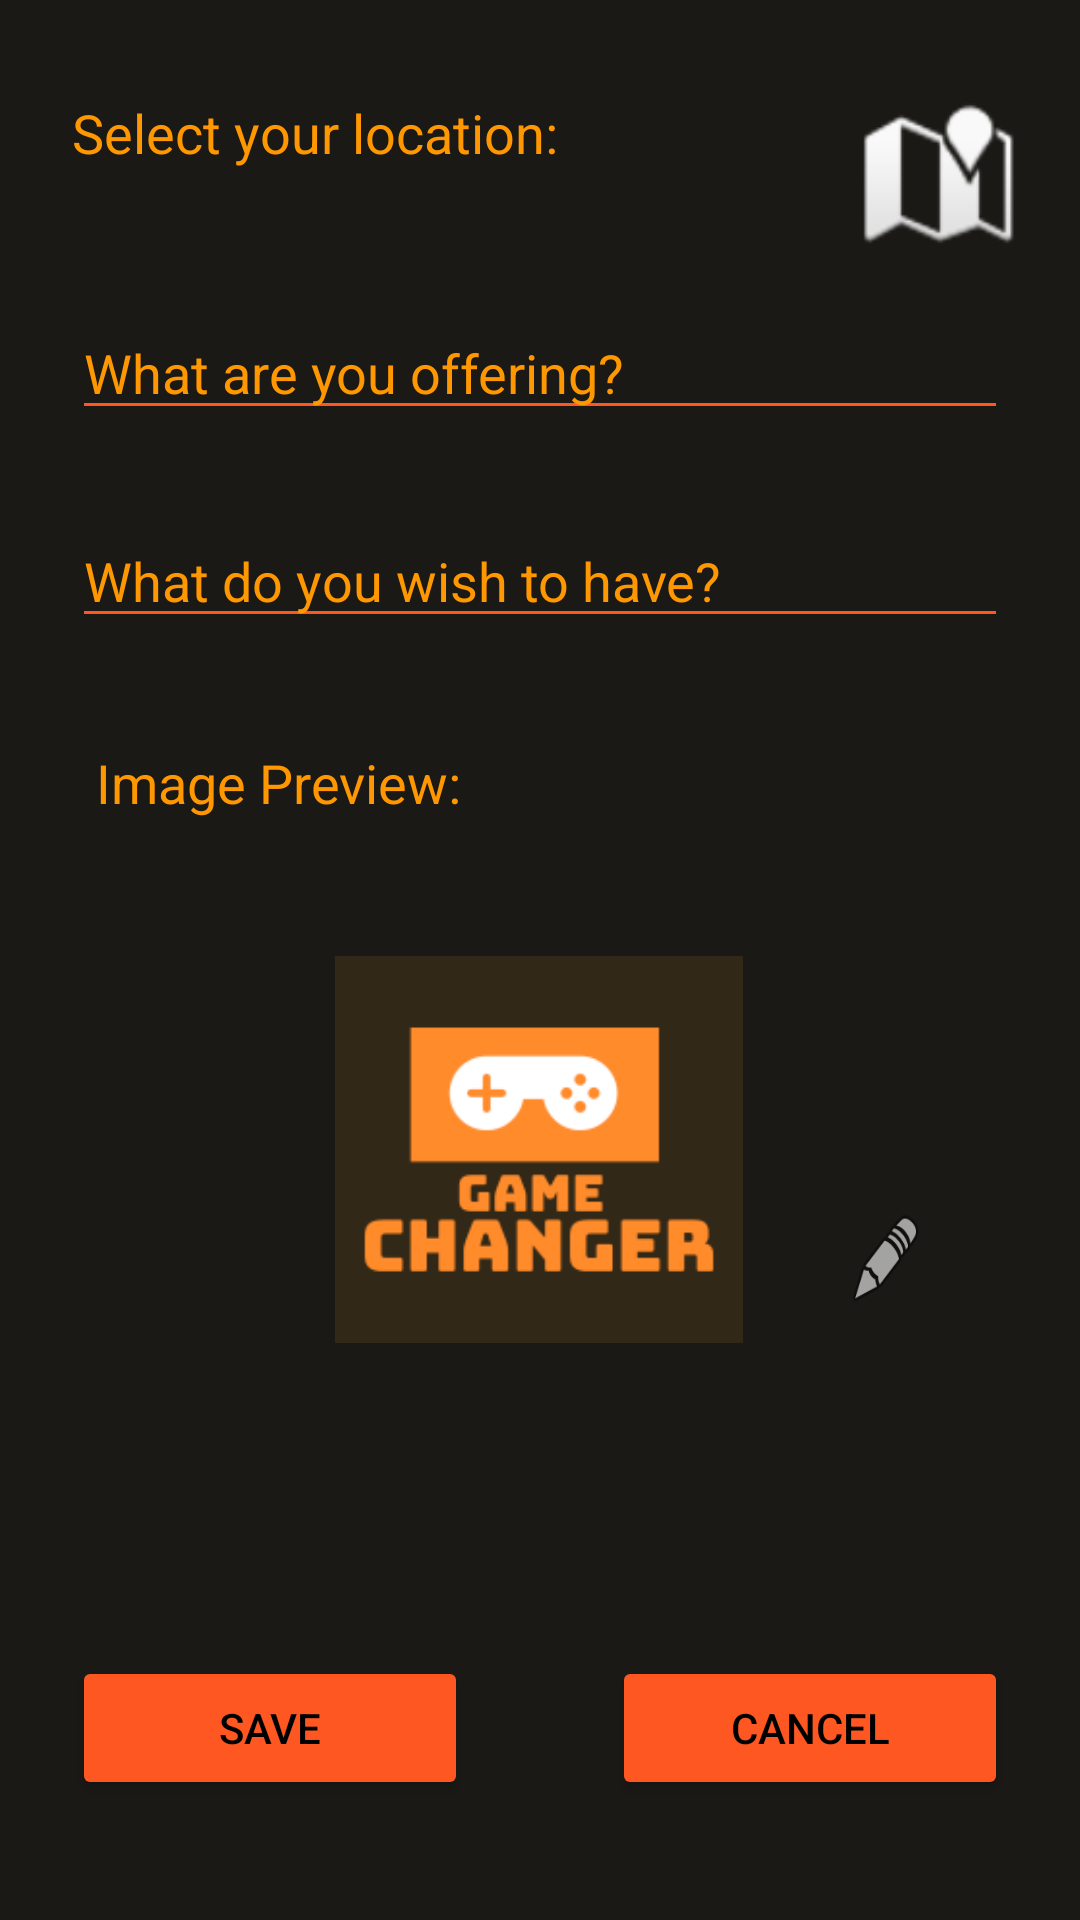

Icons on this 1080x1920 Android screen, each with its box as [x1, y1, x2, y2]:
edit: [855, 1218, 916, 1298]
map: [864, 105, 1014, 242]
